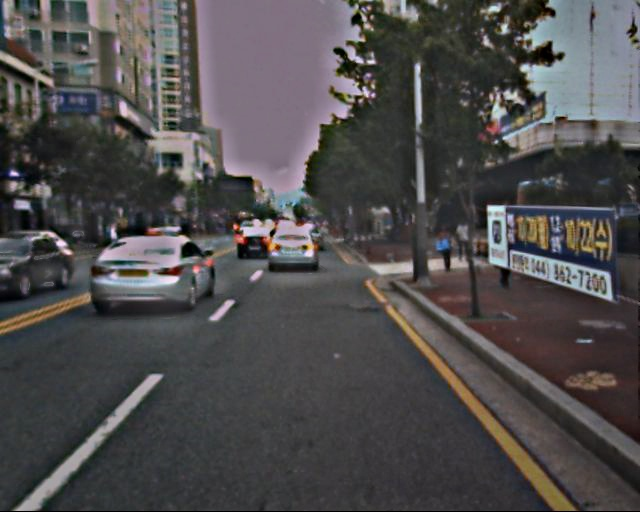person: (491, 226, 519, 295), (435, 222, 458, 279), (452, 217, 474, 270)
